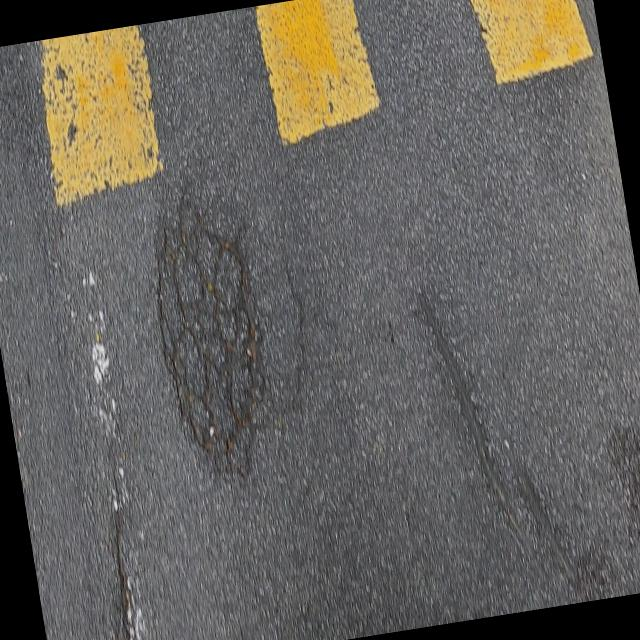Retak-Buaya: (154, 186, 262, 470)
Retak-Memanjang: (410, 264, 552, 581), (500, 422, 577, 588), (97, 418, 137, 640)
